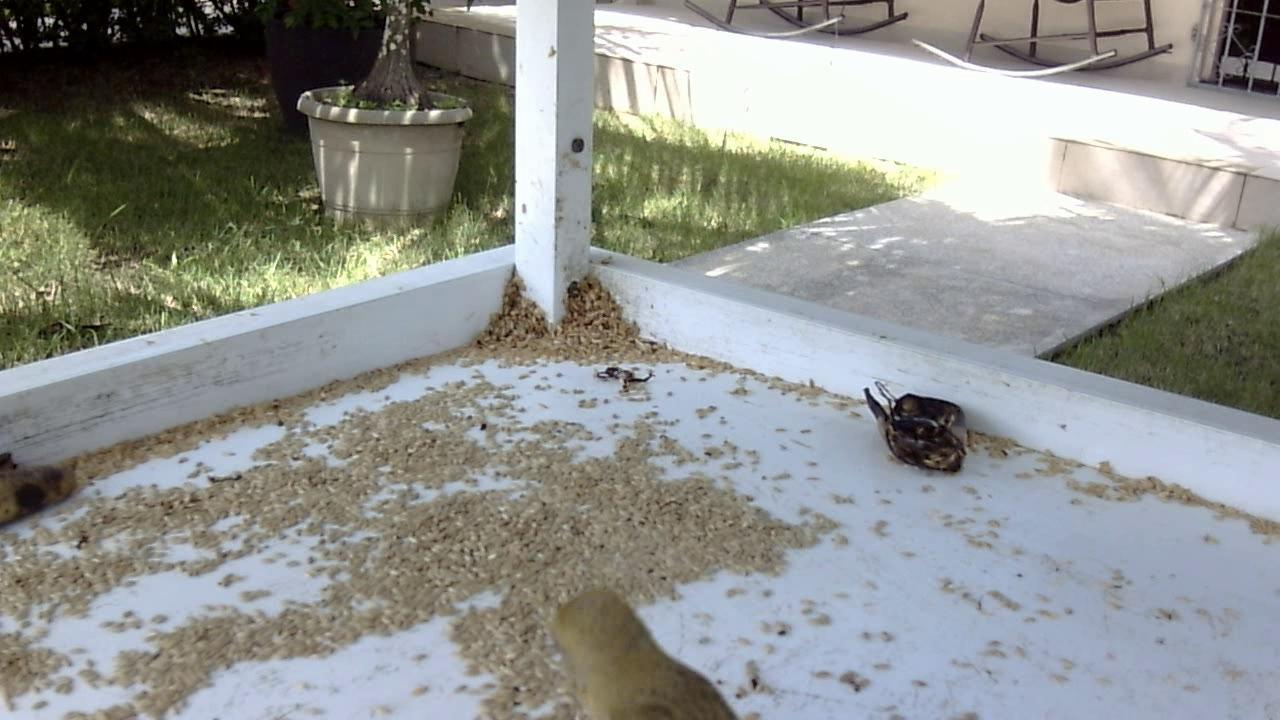canario_do_amazonas: (539, 581, 747, 715)
